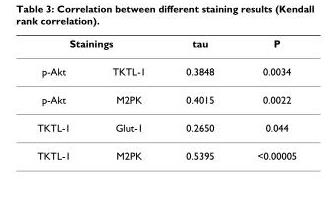table: (36, 36, 296, 161)
table column: (90, 36, 164, 161), (164, 36, 234, 161), (234, 36, 296, 161), (36, 36, 90, 161)
table column header: (36, 36, 296, 85)
table row: (36, 57, 296, 85), (36, 85, 296, 113), (36, 113, 296, 141), (36, 36, 296, 57), (36, 141, 296, 161)
table spanning cell: (164, 36, 234, 85), (234, 36, 296, 85), (36, 36, 164, 57)
